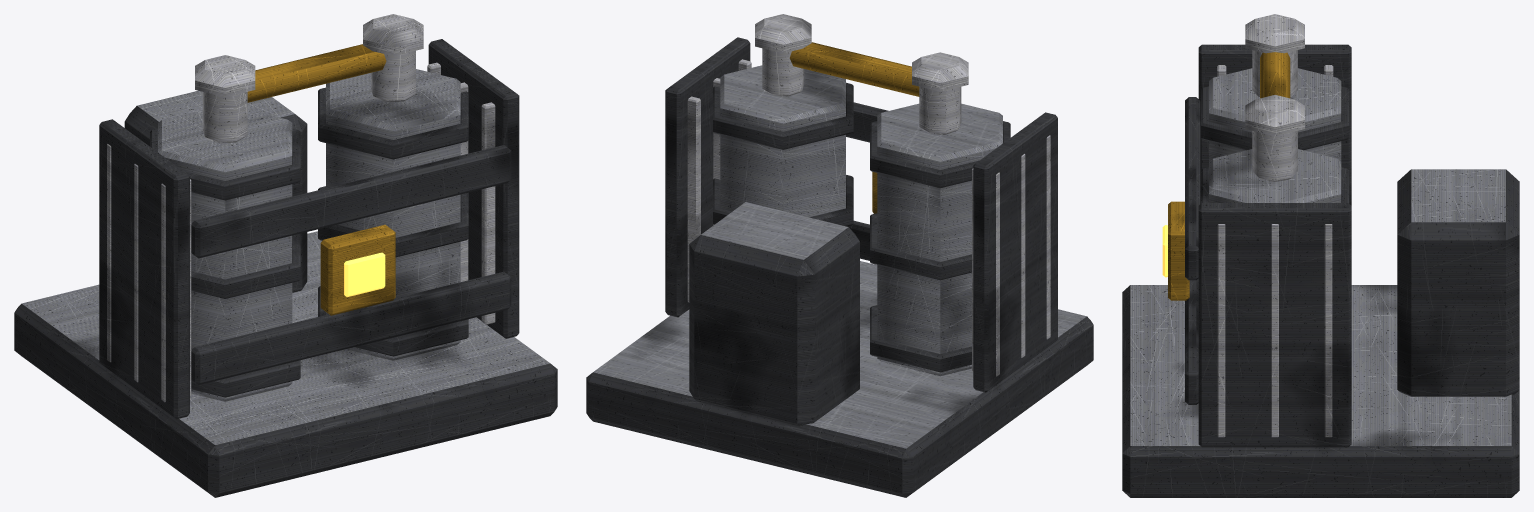
Rendered from R4X_Battery_LOD1.glb.
3 renders of one model, left to right at view 1: azimuth 30°, elevation 25°; view 2: azimuth 150°, elevation 25°; view 3: azimuth 270°, elevation 25°, orthographic. The views are drawn at different scales.
Parts seen in each view (by area): view 1: R4X_Battery_LOD1; view 2: R4X_Battery_LOD1; view 3: R4X_Battery_LOD1.
Part boxes in pixels (x1=…): R4X_Battery_LOD1: x1=14, y1=14, x2=557, y2=497; R4X_Battery_LOD1: x1=586, y1=14, x2=1093, y2=497; R4X_Battery_LOD1: x1=1122, y1=14, x2=1519, y2=497.
Bounding box in the file's own units: 0.52 × 0.51 × 0.52.
5 materials, 4 textured.
